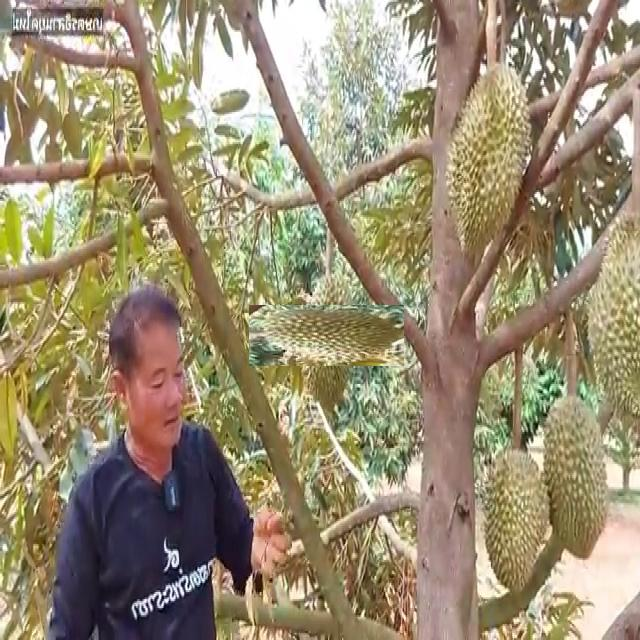durian: (439, 54, 541, 262), (541, 387, 614, 572), (584, 202, 639, 422), (272, 282, 381, 390), (480, 438, 550, 596)
